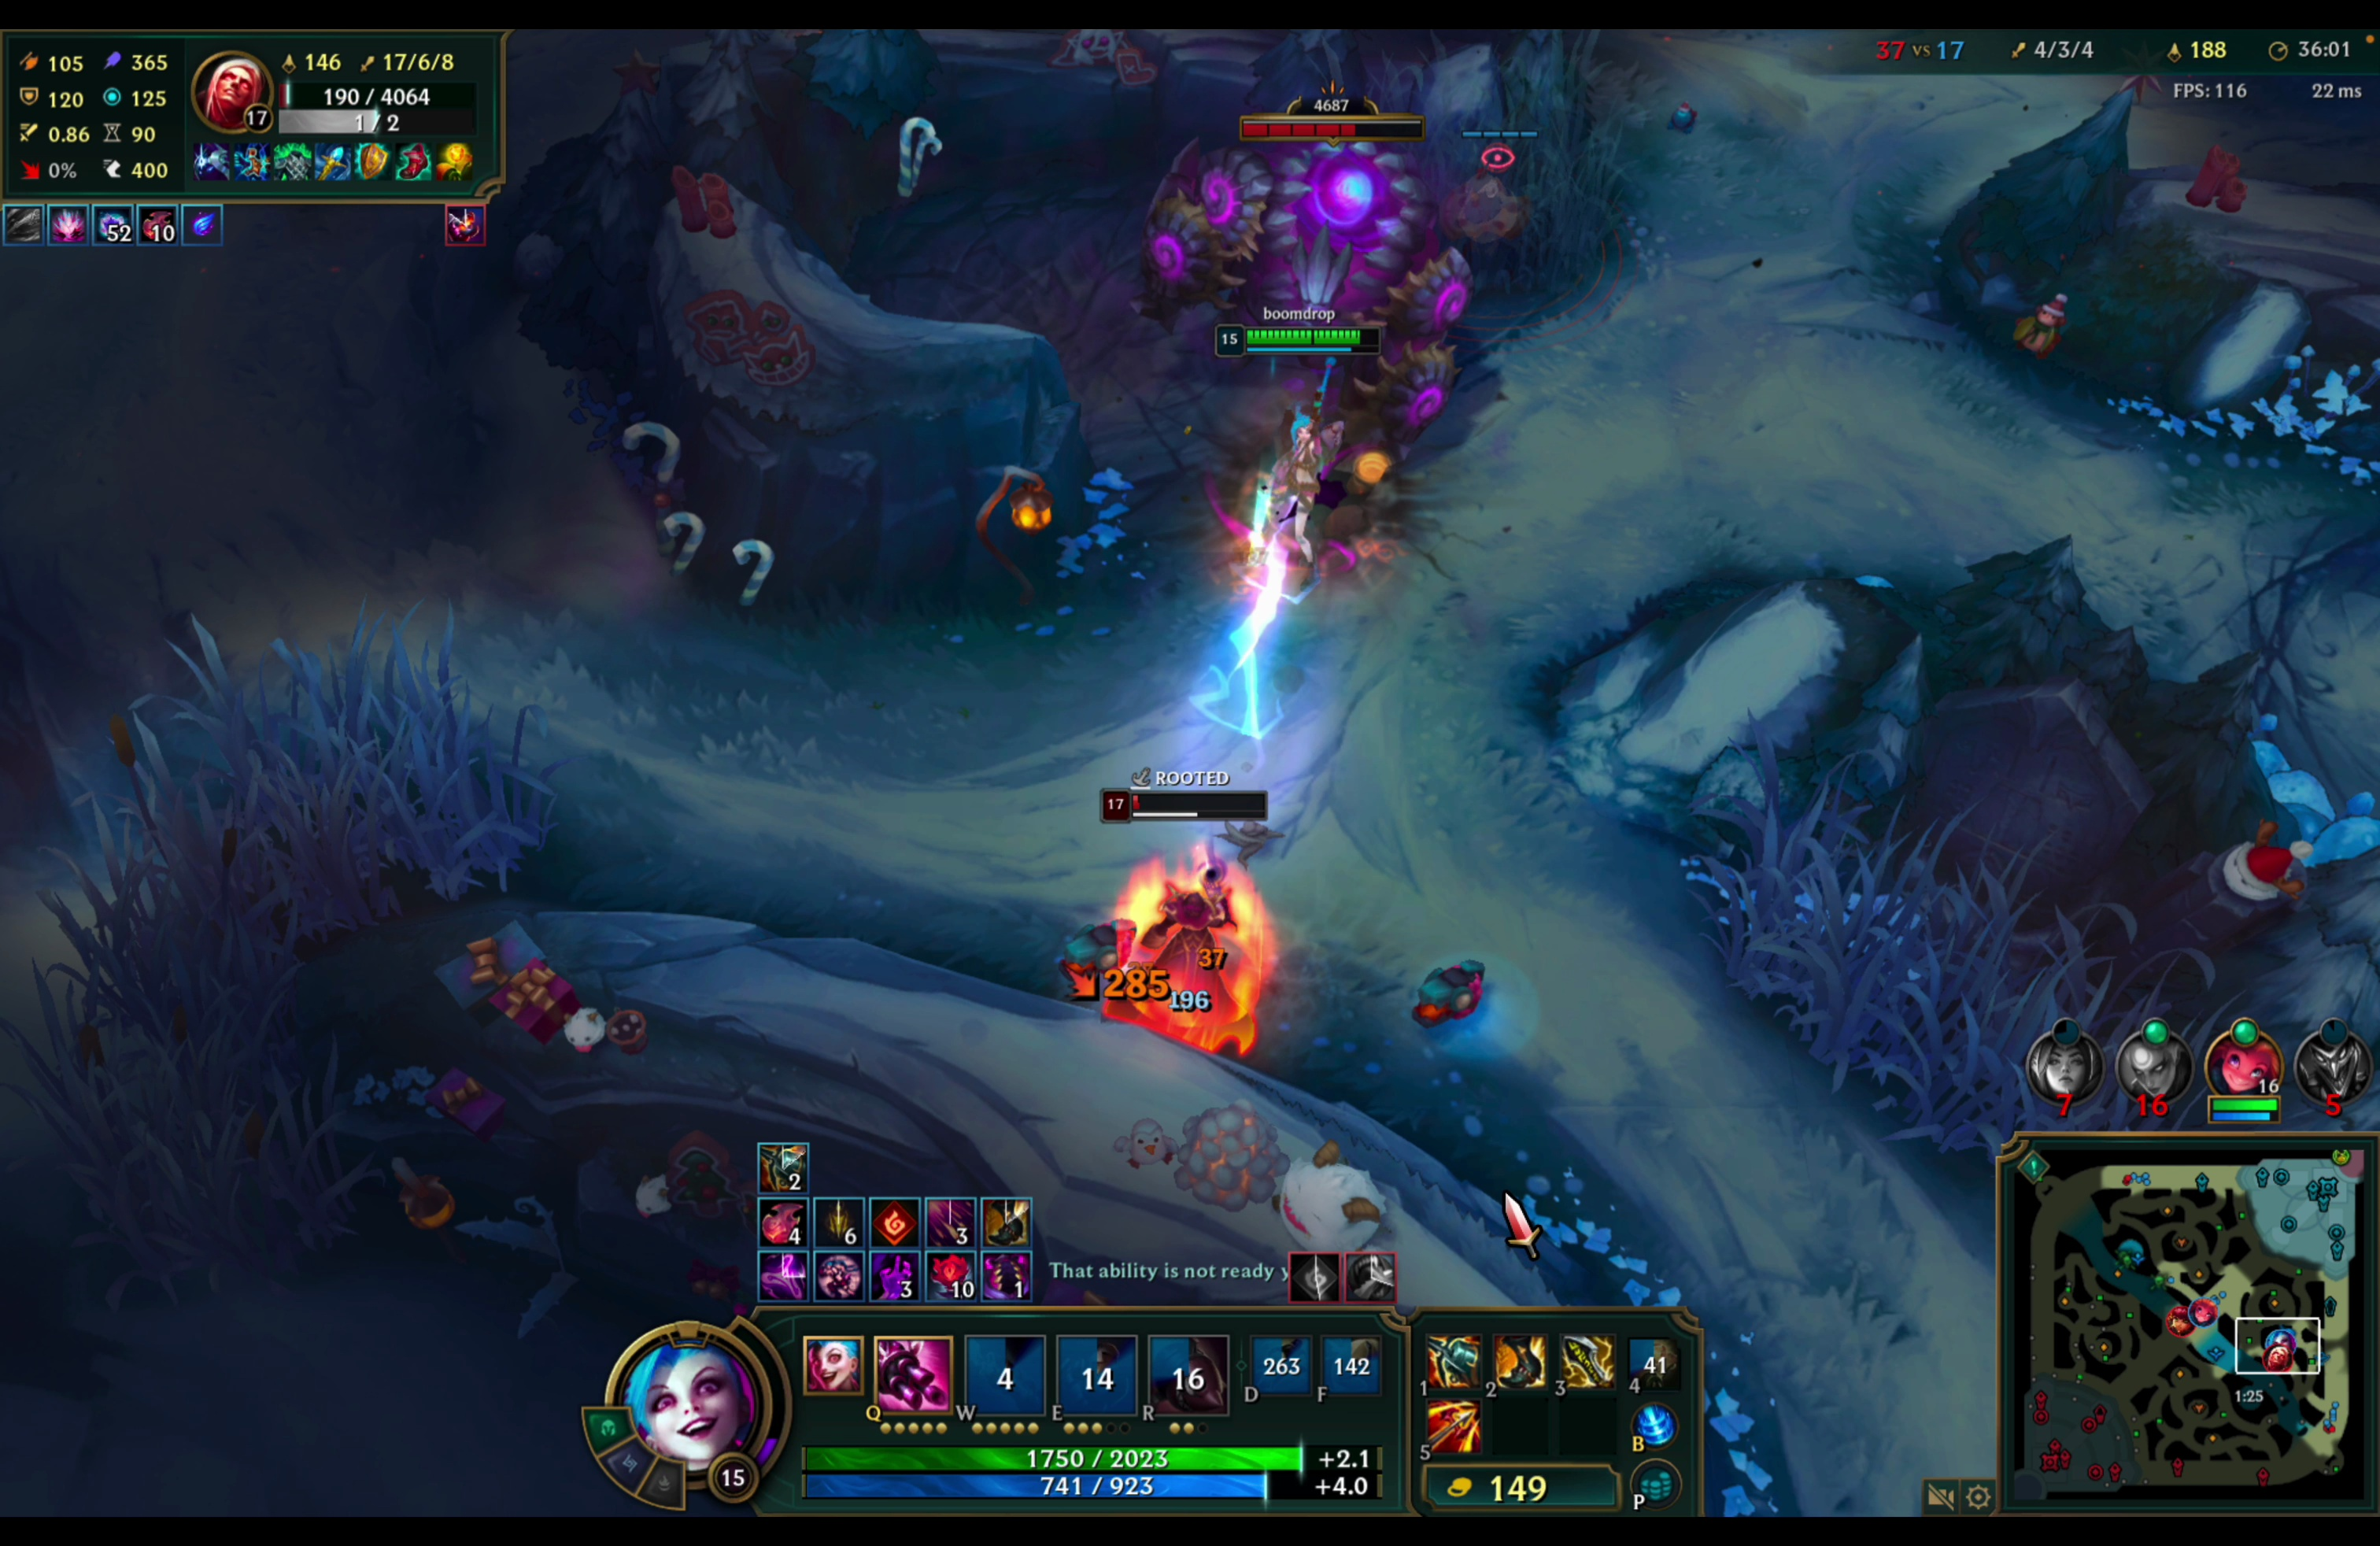JINX_W_PROJECTILE: (1159, 298, 1405, 760)
